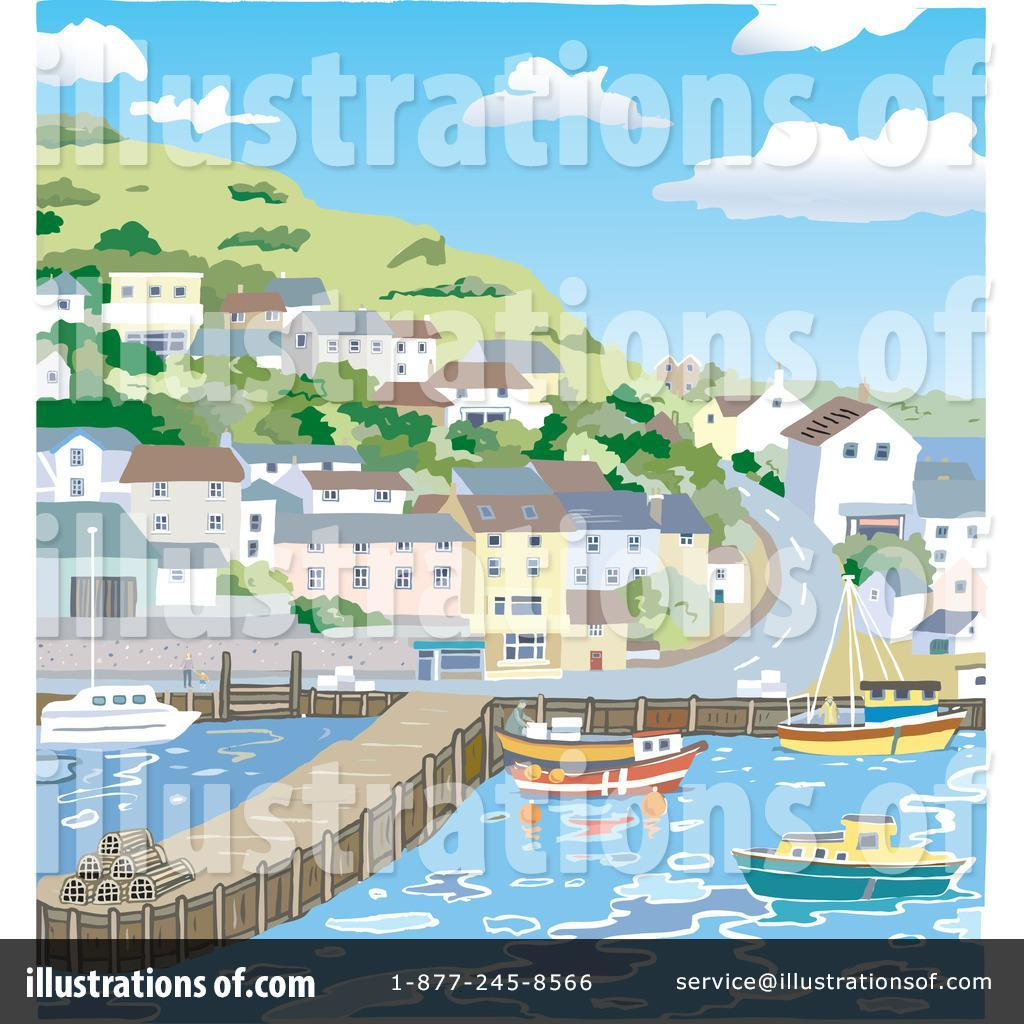boat: (481, 694, 706, 806), (728, 810, 977, 907), (778, 676, 971, 757), (40, 682, 196, 754)
